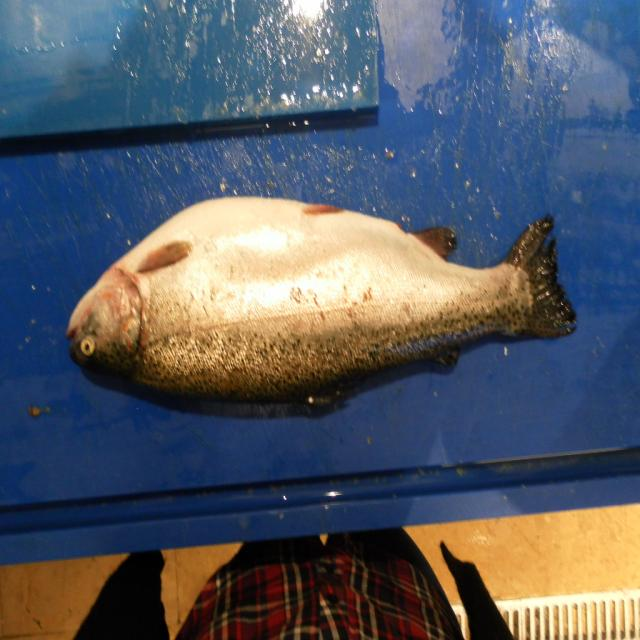Trout-alabalik-: (66, 198, 576, 402)
